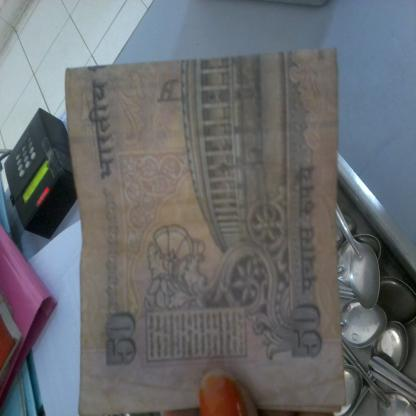Old50Back: (64, 44, 347, 416)
